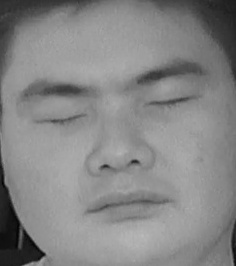blink: (36, 103, 88, 136), (144, 86, 192, 119)
mouth: (81, 182, 175, 228)
